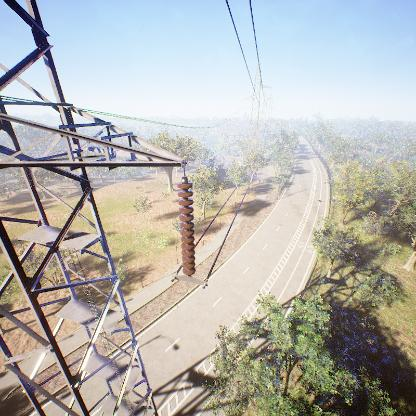insulator: (177, 180, 197, 277)
